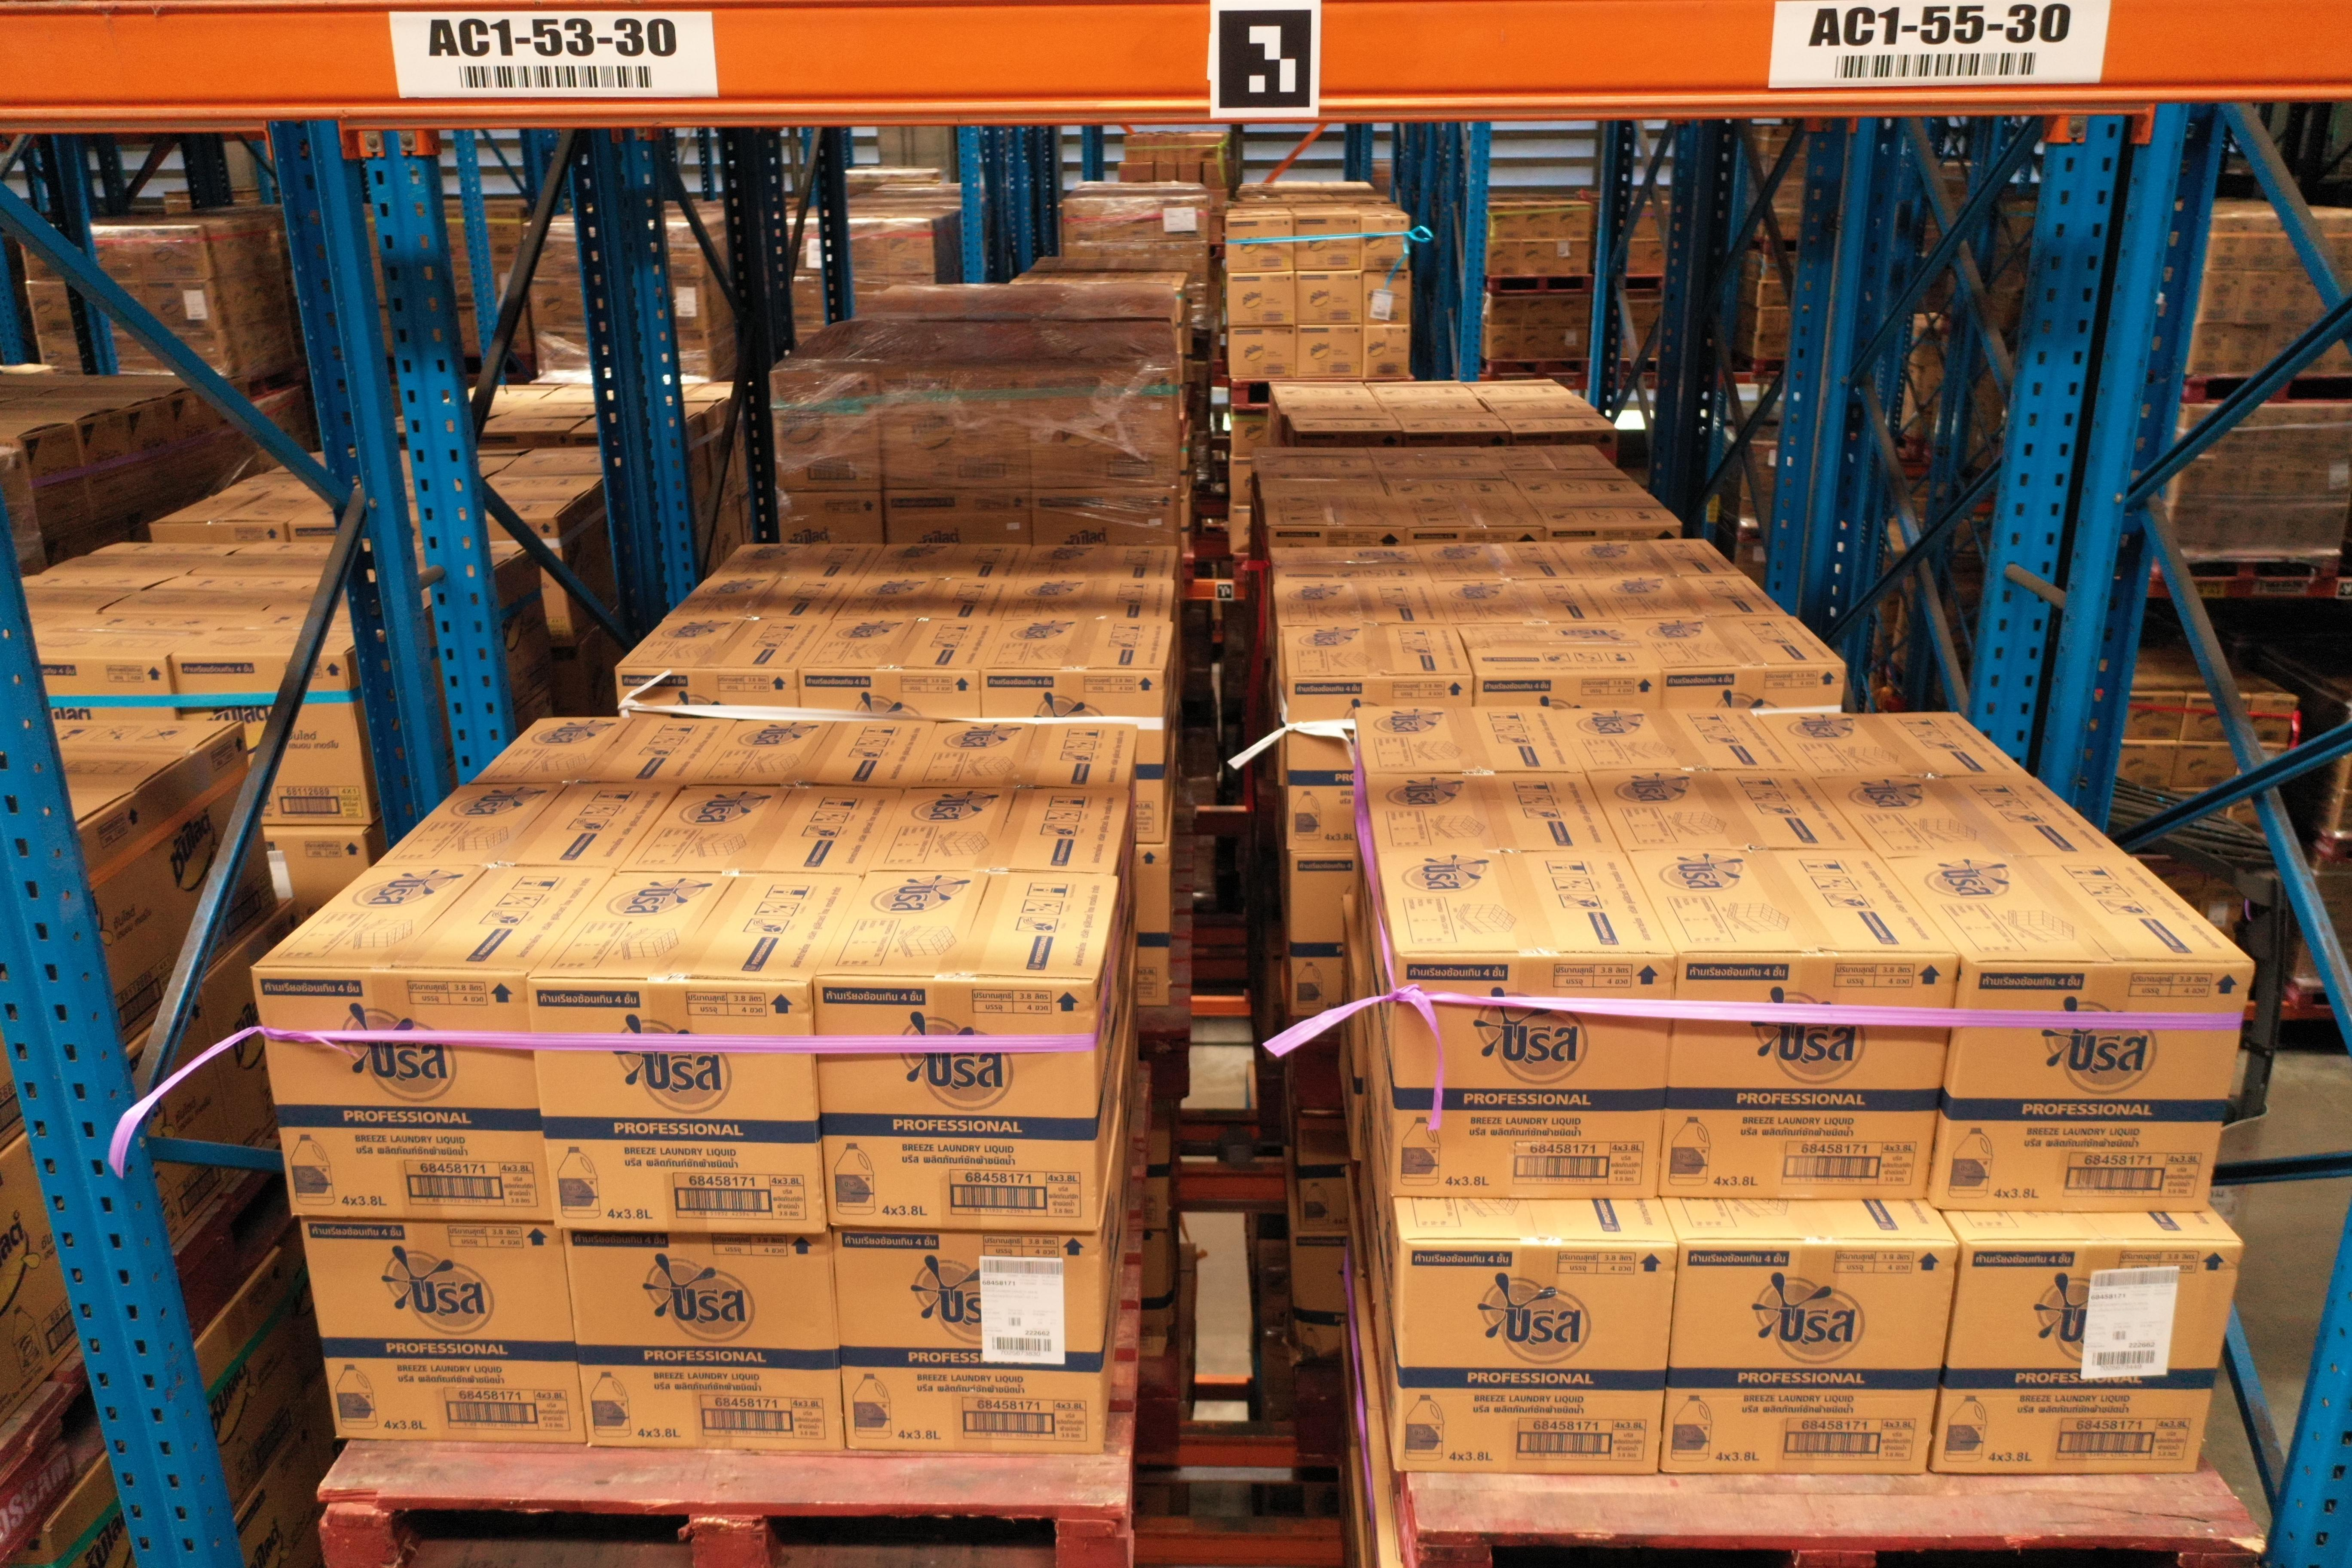-: (1935, 961, 2256, 1214), (247, 968, 553, 1232), (527, 976, 826, 1237), (1659, 952, 1960, 1204), (812, 973, 1101, 1235), (1934, 1241, 2243, 1479), (1657, 1242, 1958, 1480), (1391, 952, 1676, 1200), (1396, 1237, 1678, 1473), (296, 1218, 586, 1444), (562, 1228, 845, 1454), (833, 1232, 1099, 1458)
2: (877, 367, 1031, 492), (1025, 367, 1178, 488), (766, 367, 882, 497)
